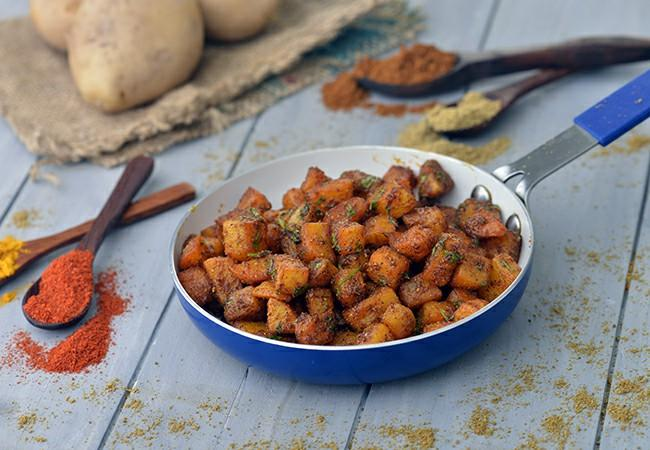AlooMasala: (179, 159, 522, 345)
